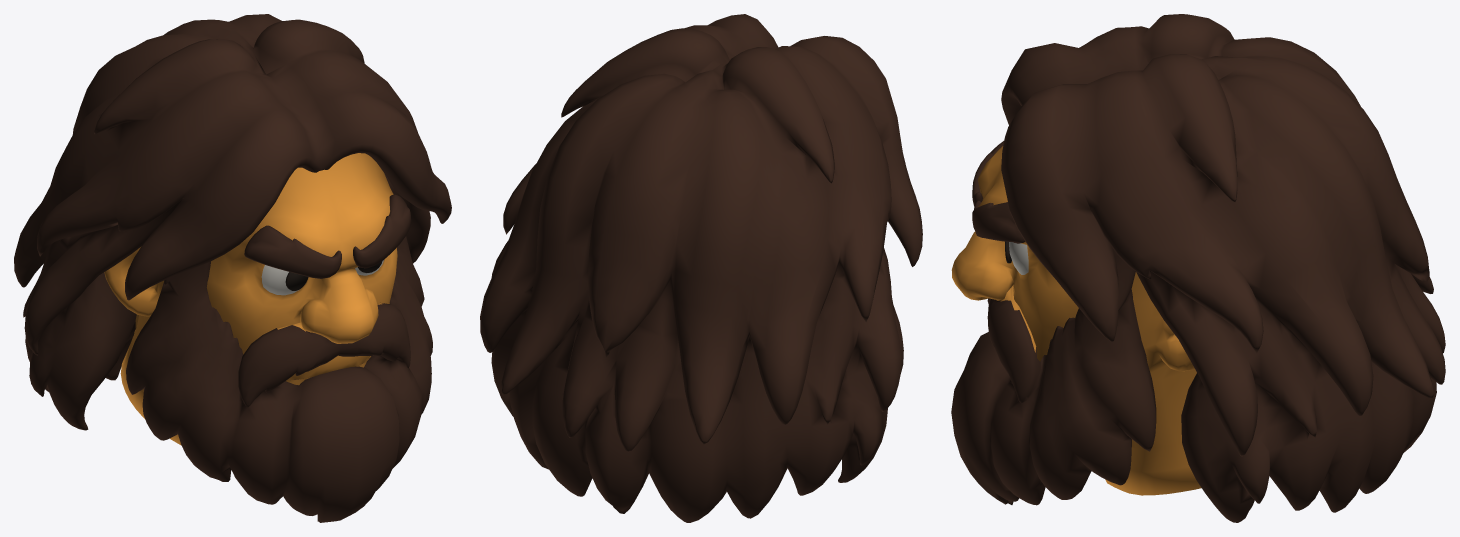
The model's file is cota_caveman.glb.
3 renders of one model, left to right at view 1: azimuth 30°, elevation 25°; view 2: azimuth 150°, elevation 25°; view 3: azimuth 270°, elevation 25°, orthographic. The views are drawn at different scales.
Visible parts, largest first — view 1: cota_flat_clean; view 2: cota_flat_clean; view 3: cota_flat_clean.
Boxes of the visible parts, x1,y1,x2,y2 form: cota_flat_clean: (14, 14, 451, 522); cota_flat_clean: (480, 14, 922, 522); cota_flat_clean: (951, 14, 1445, 522).
Bounding box in the file's own units: 0.934 × 0.9585 × 0.9331.
